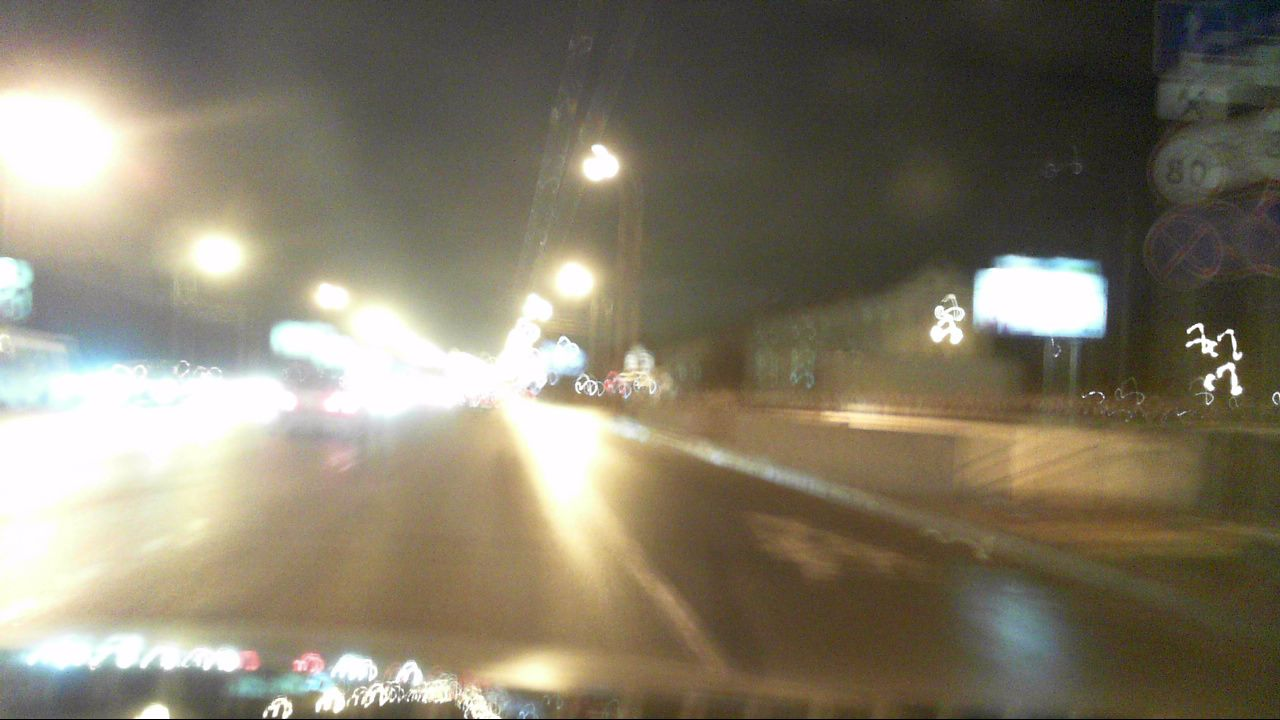No Parking: (1143, 213, 1225, 292)
